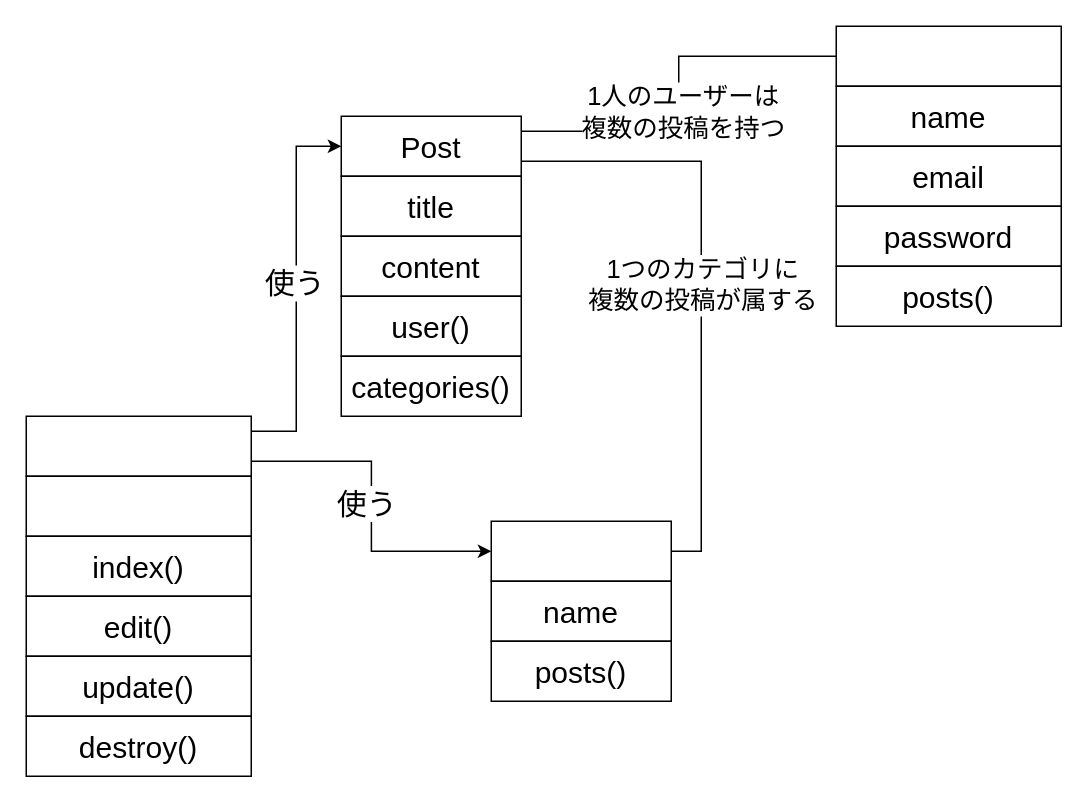
Some shapes in this 1088 by 803 pixel diagram are drawn without their labels. Each missing label, with the centre of its shape:
"Category" goes at point (580, 550).
"PostController" goes at point (138, 445).
"User" goes at point (948, 55).
